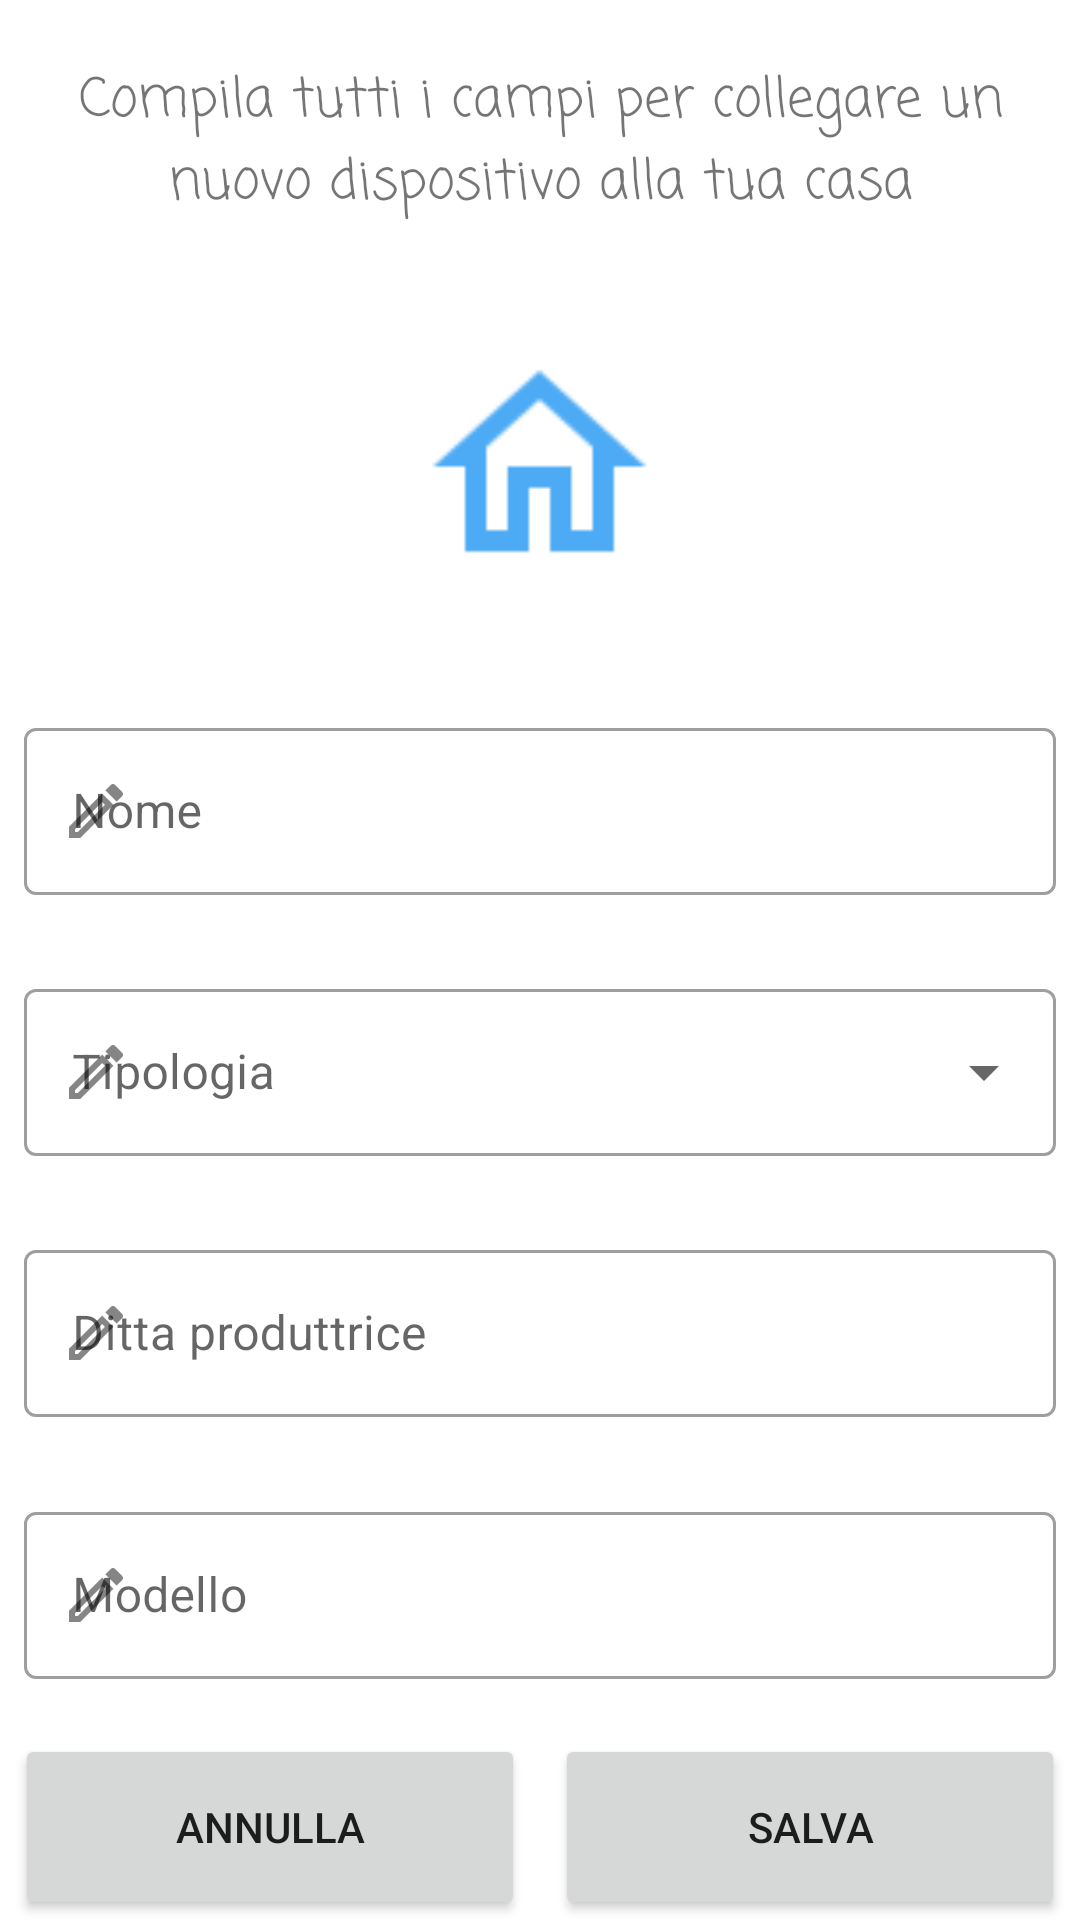

Icon click points for this 1080 × 1920 phone screenshot, format (x=x, y=y):
home: (x=539, y=461)
